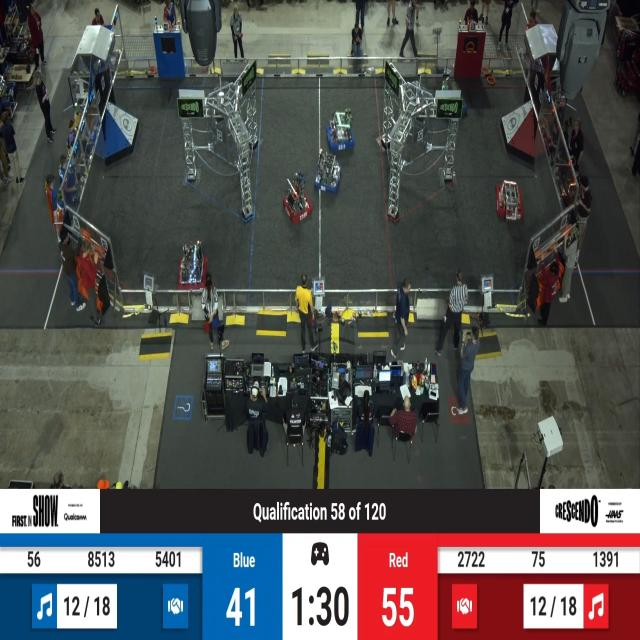Robot: (175, 238, 209, 294), (437, 72, 470, 126), (282, 171, 312, 228), (327, 106, 357, 153), (314, 149, 342, 197), (494, 176, 523, 222)
